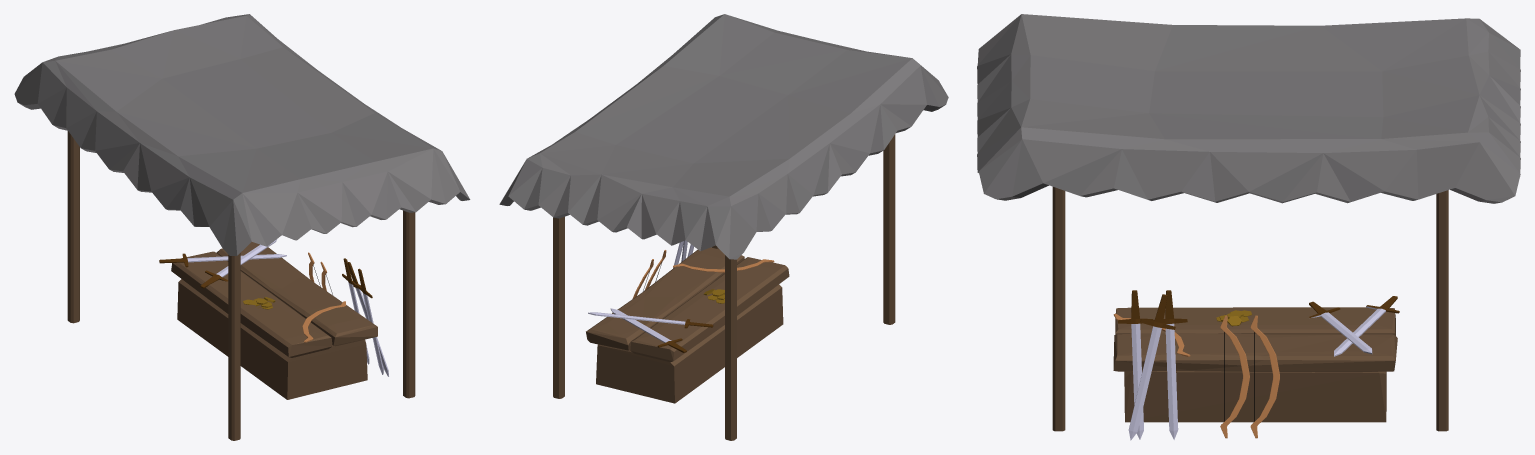
The model's file is weapons.glb.
3 views of the same model, side by side, from view 1: azimuth 30°, elevation 25°; view 2: azimuth 150°, elevation 25°; view 3: azimuth 270°, elevation 25° (orthographic). The views are drawn at different scales.
Parts seen in each view (by area): view 1: ClothMarket, Sword, Sword.001, Sword.002; view 2: ClothMarket, Sword, Sword.001; view 3: ClothMarket, Sword.003, Sword.004, Sword.002, Bow, Bow.001, Sword.001, Sword.
Part boxes in pixels (x1,y1,x2,y2): ClothMarket: (14,14,470,440); Sword: (159,253,286,267); Sword.001: (200,239,276,288); Sword.002: (356,268,383,374); ClothMarket: (499,14,948,440); Sword: (610,308,686,352); Sword.001: (588,312,713,328); ClothMarket: (977,14,1520,431); Sword.003: (1128,294,1175,440); Sword.004: (1153,290,1187,439); Sword.002: (1118,290,1153,439); Bow: (1220,315,1249,438); Bow.001: (1250,315,1279,438); Sword.001: (1309,301,1372,354); Sword: (1334,296,1399,356).
Bounding box in the file's own units: 1.94 × 2.05 × 3.2.
